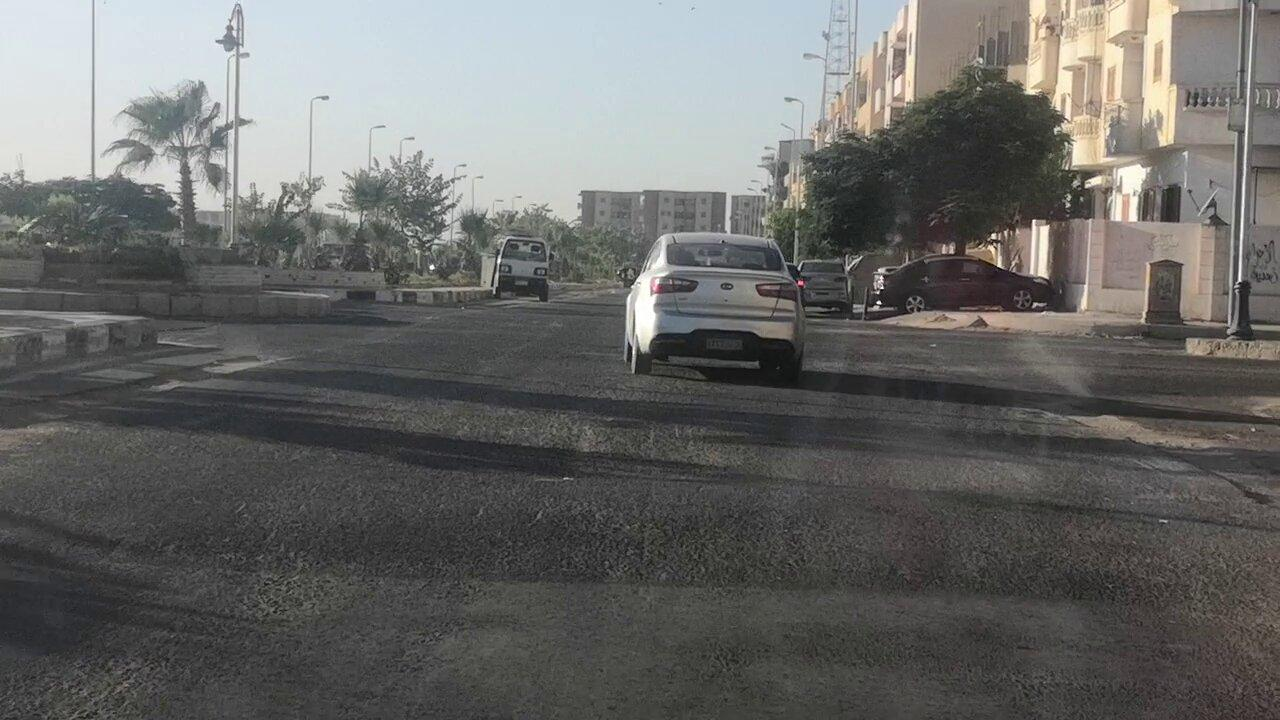Bump: (30, 445, 1280, 613)
